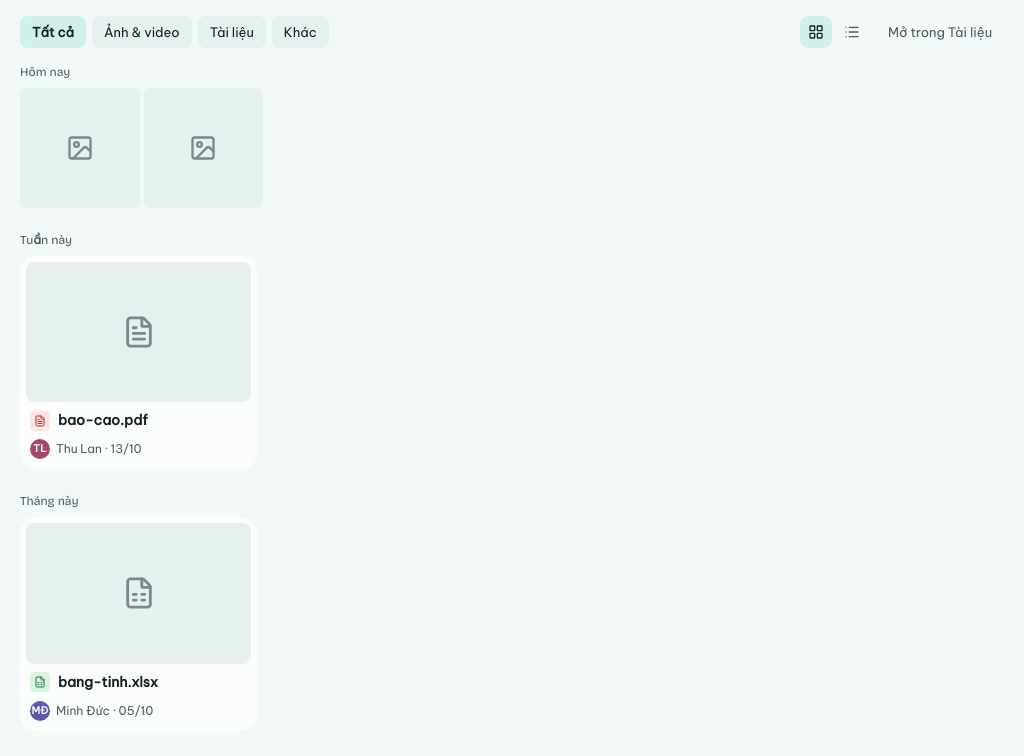
it: SpaceFiles › opens the viewer on the filtered list so the arrows never reach a hidden file
Expected: the button "bao-cao.pdf TL Thu Lan · 13/10" is shown, [20,256,257,469]
Click the radio button labelled "Tài liệu".
click(232, 32)  # box [198,16,266,48]
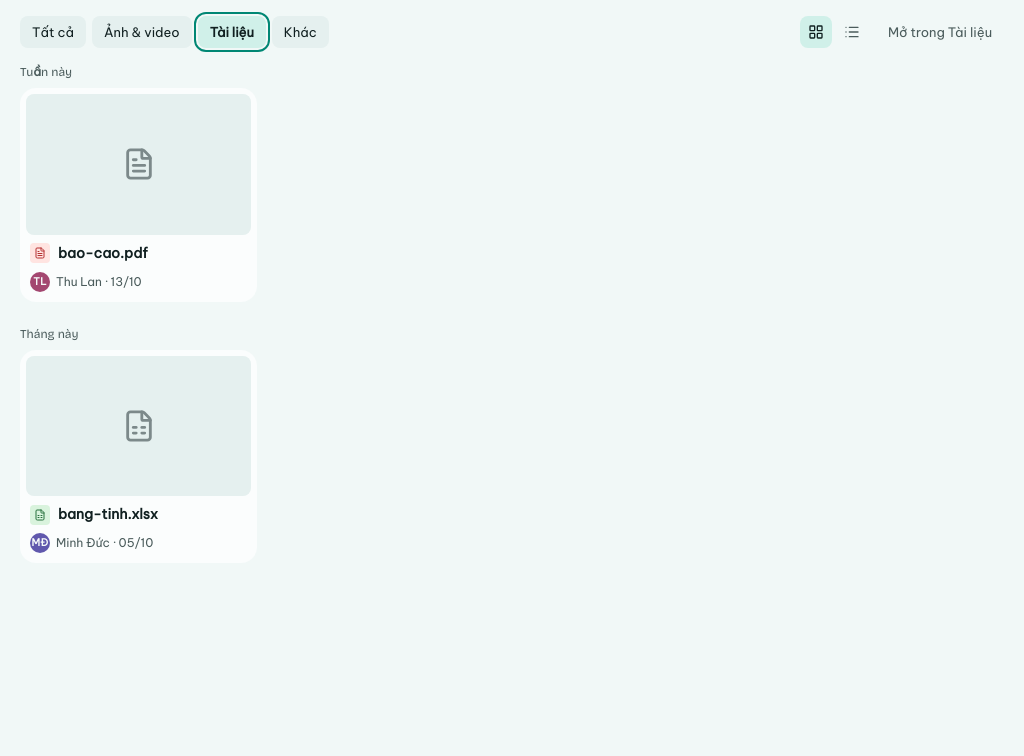
Click the button "bang-tinh.xlsx MĐ Minh Đức · 05/10".
click(138, 456)  # box [20,350,257,563]
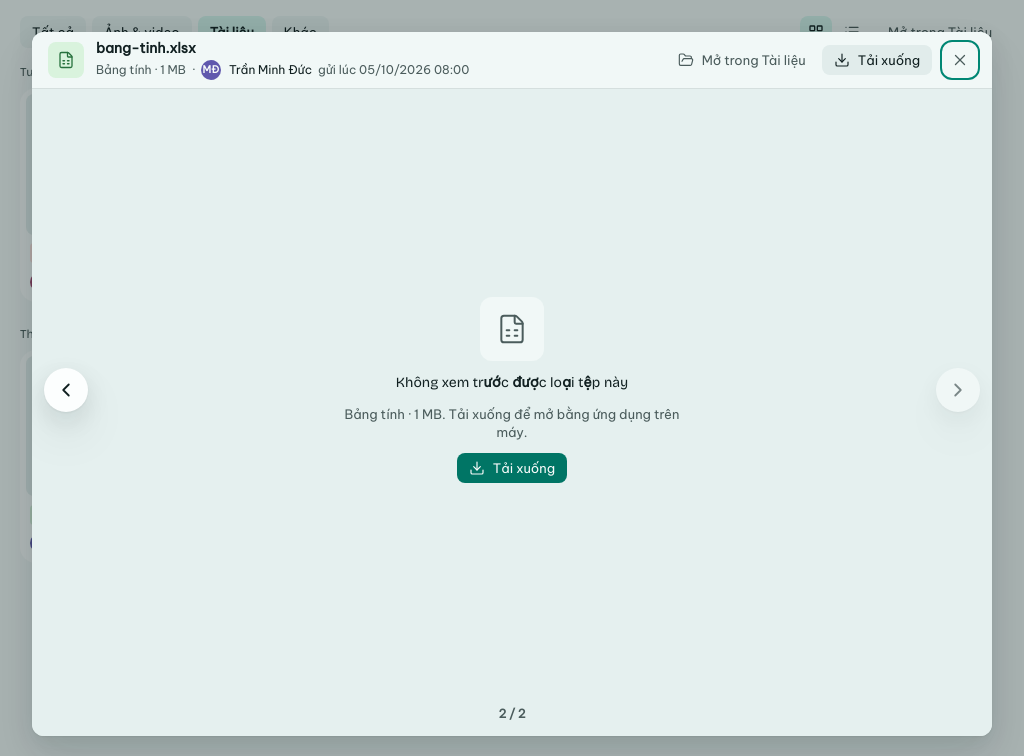
Expected: the button named "Tệp sau" is disabled, [936,368,980,412]
Click the button named "Tệp trước".
click(66, 390)  # box [44,368,88,412]
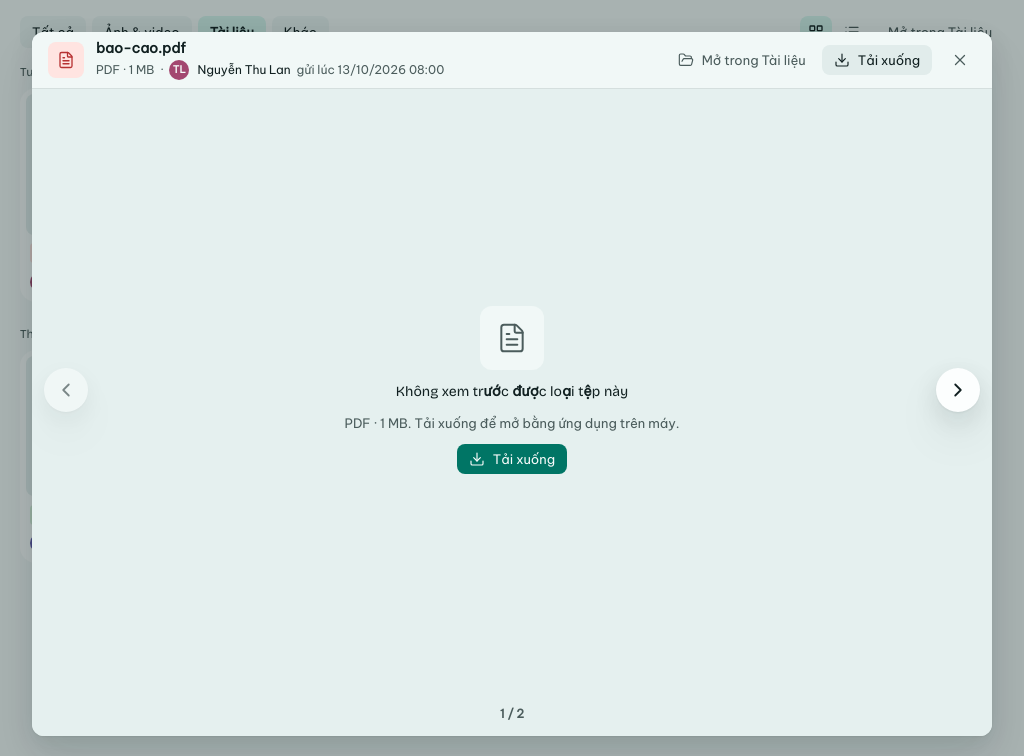
Expected: the text "bao-cao.pdf" is shown, [96,40,186,58]
Expected: the button named "Tệp trước" is disabled, [44,368,88,412]
